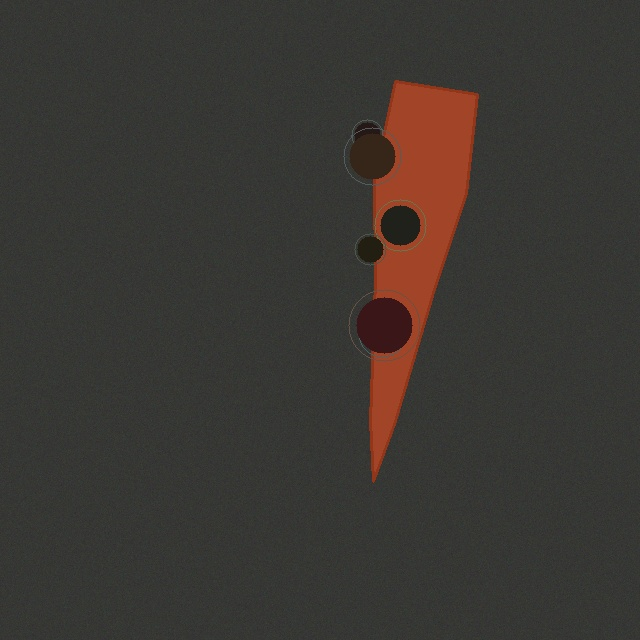Rotten_Carrot: (362, 73, 485, 489)
